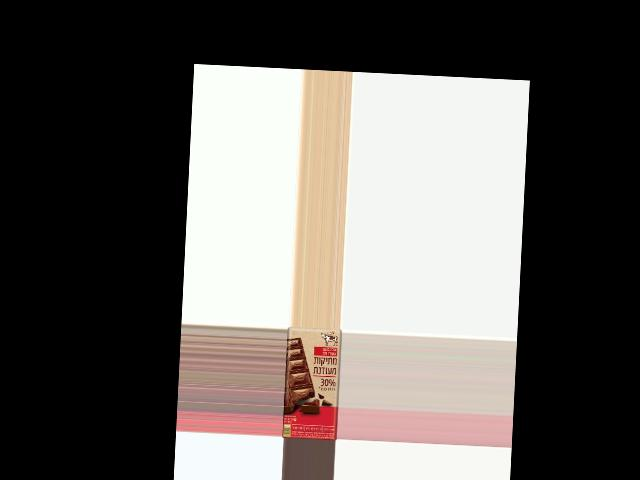chocolate: (282, 326, 342, 439)
